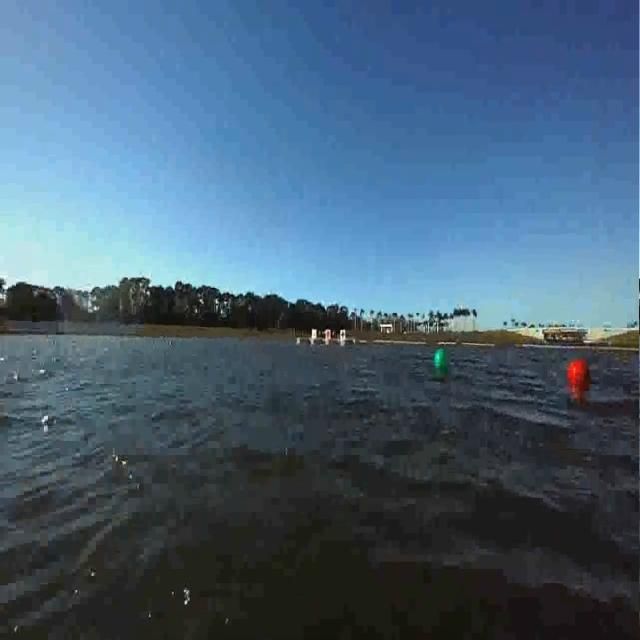green-buoy: (432, 348, 448, 369)
red-buoy: (568, 359, 590, 387)
